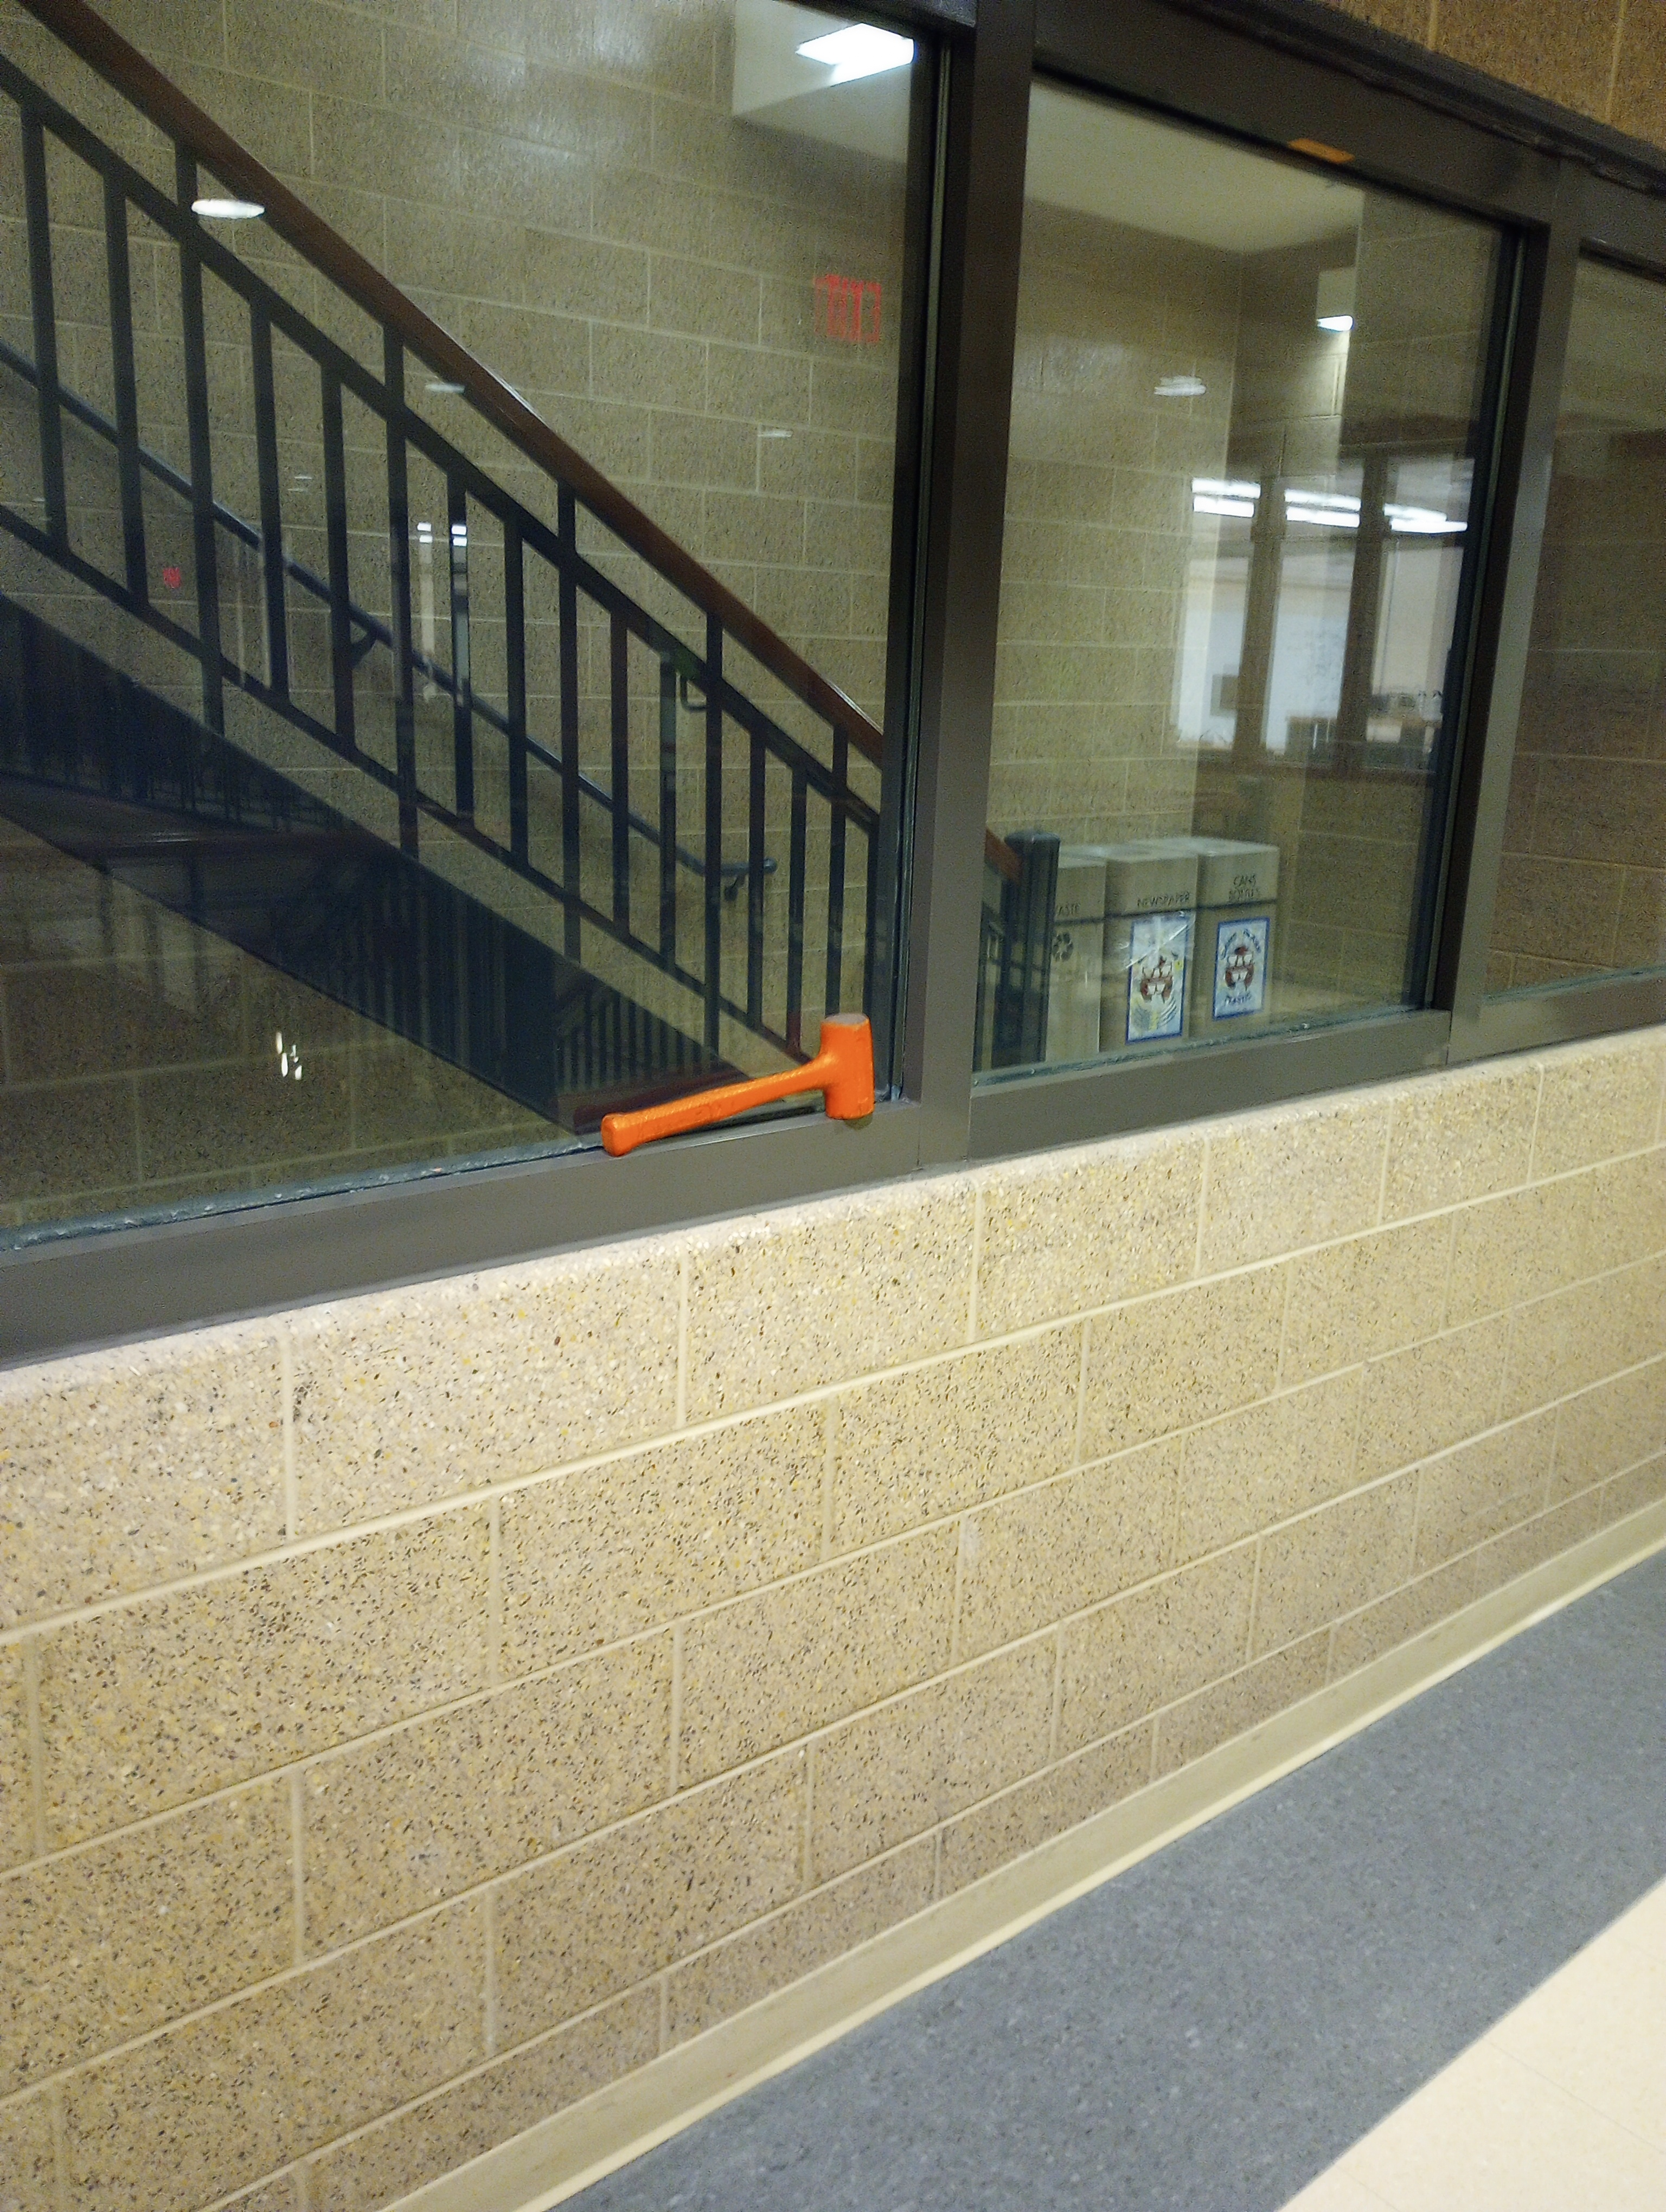hammer: (600, 998, 878, 1154)
